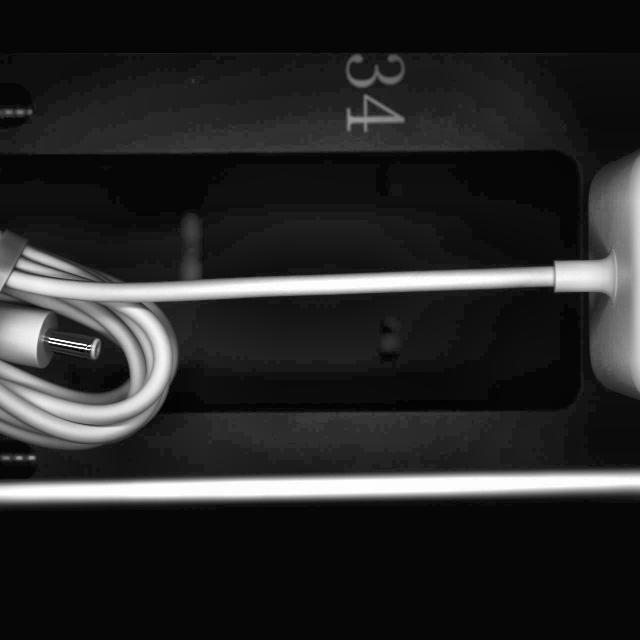Cable: (0, 147, 640, 456)
